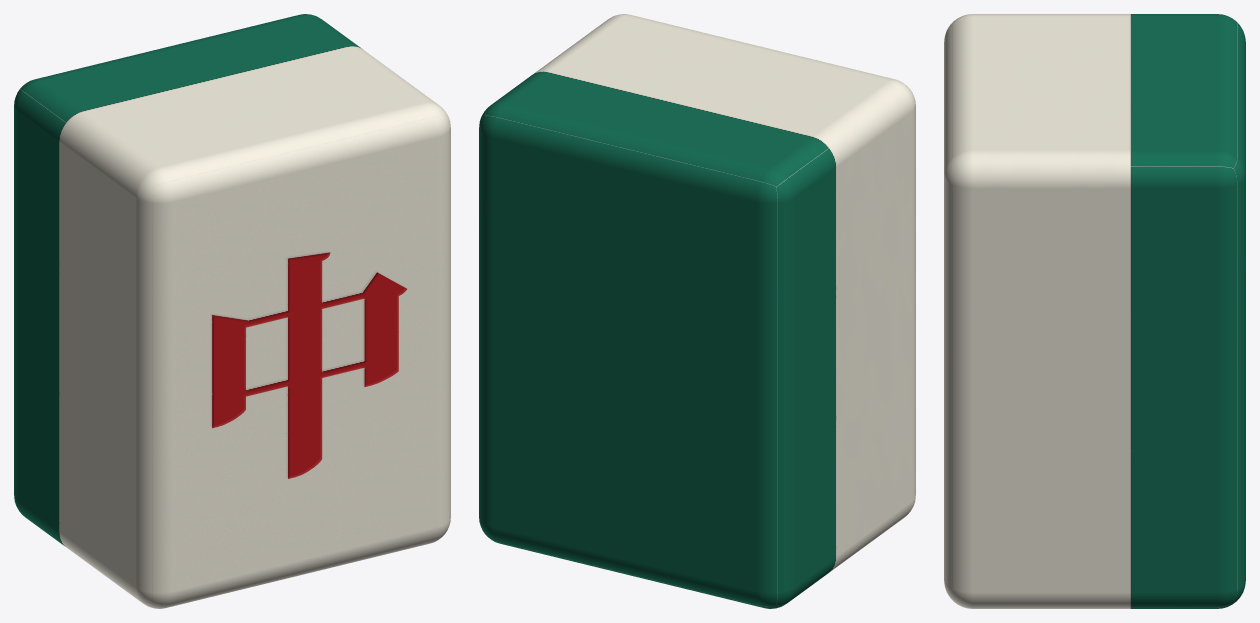
File: tile_7z.obj
3 renders of one model, left to right at view 1: azimuth 30°, elevation 25°; view 2: azimuth 150°, elevation 25°; view 3: azimuth 270°, elevation 25°, orthographic. The views are drawn at different scales.
Visible parts, largest first — view 1: tile_7z; view 2: tile_7z; view 3: tile_7z.
Part boxes in pixels (x1,y1,x2,y2): tile_7z: [14, 14, 450, 608]; tile_7z: [479, 14, 915, 608]; tile_7z: [944, 14, 1245, 608].
Size of the model in its own units: 0.026 by 0.035 by 0.021.
Materials: 1 (1 with a texture image).
